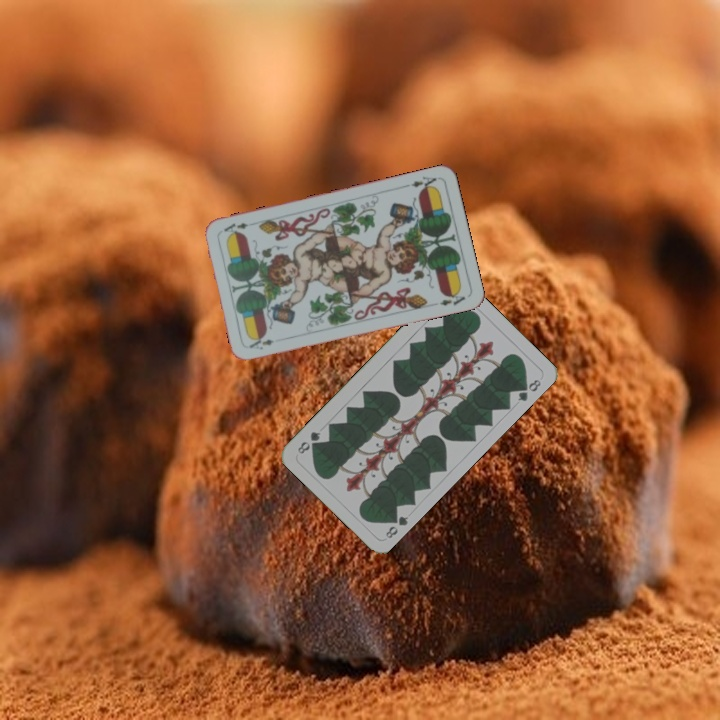EA: (407, 172, 439, 193), (245, 334, 276, 352)
G8: (381, 510, 411, 541)
